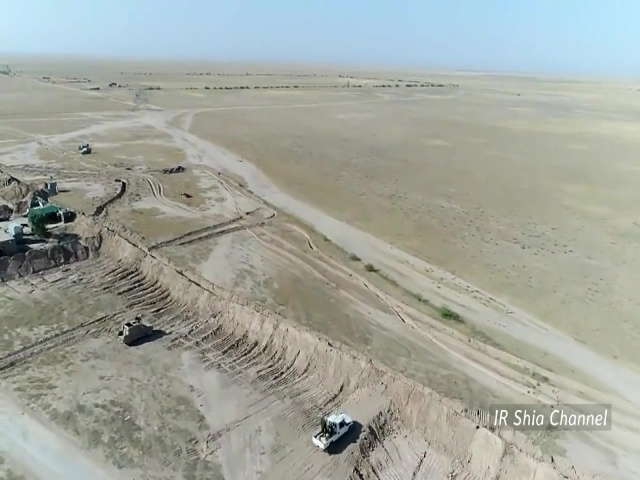vehicle: (310, 412, 353, 450), (118, 315, 154, 346)
